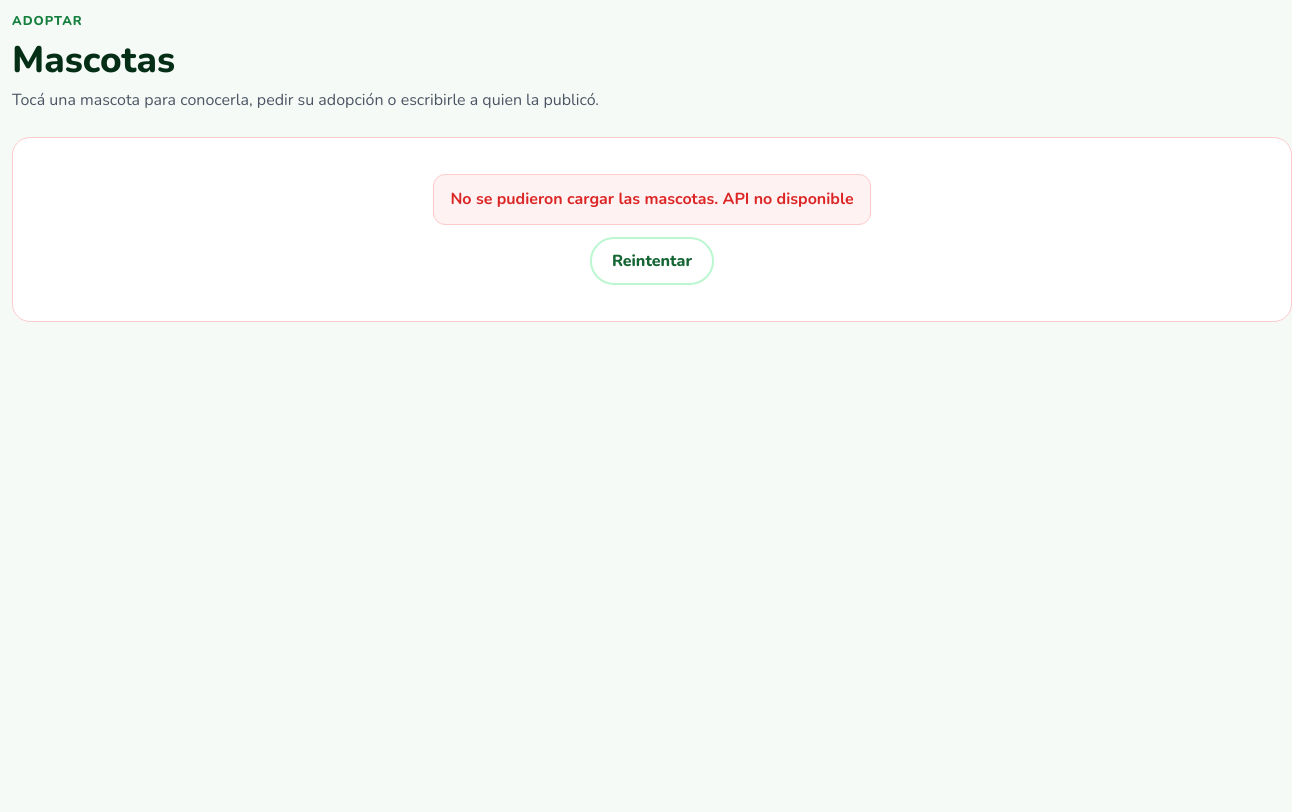
Test: MascotasPage › muestra el error del servicio y permite reintentar
Check: the message reads "No se pudieron cargar las mascotas. API no disponible", box [450,188,854,210]
Click the button "Reintentar": (652, 261) [590,237,714,285]
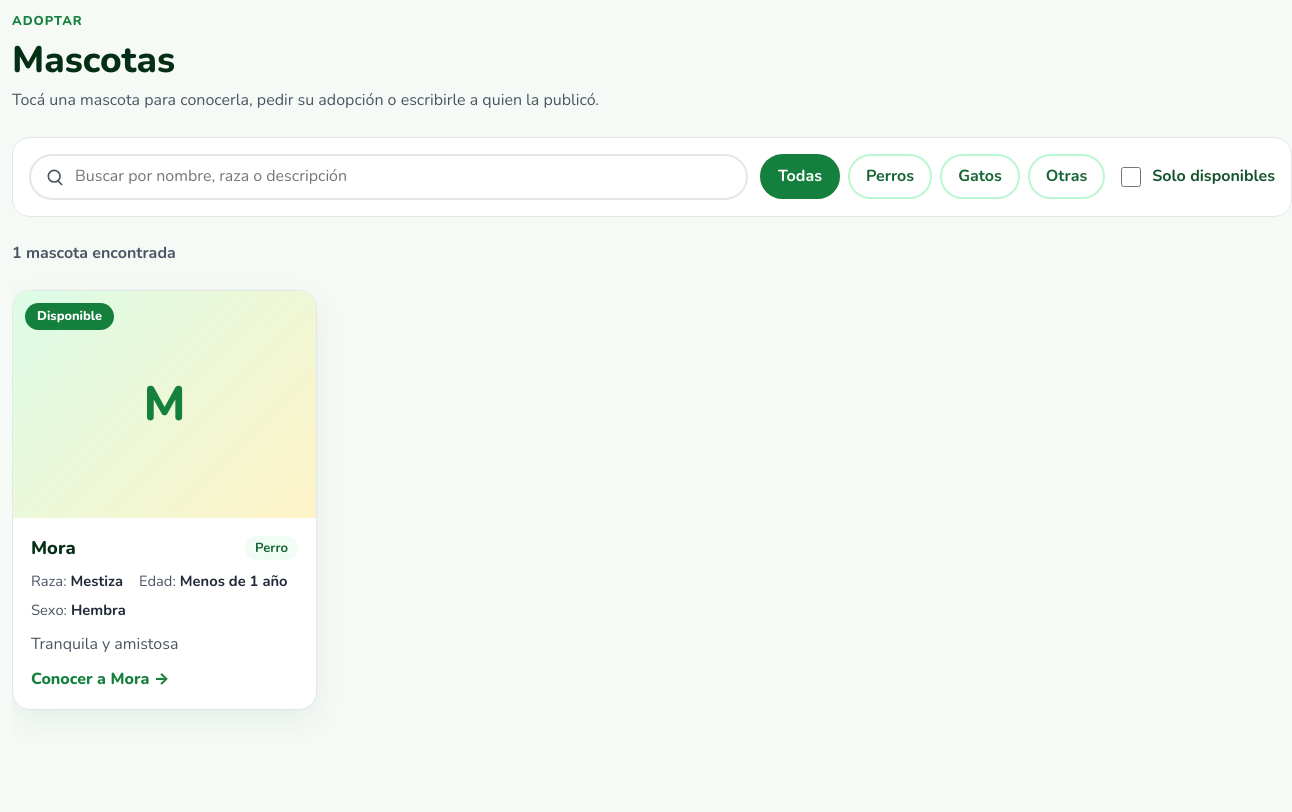
Check: the link "Mora" is shown, box [12,290,317,710]
